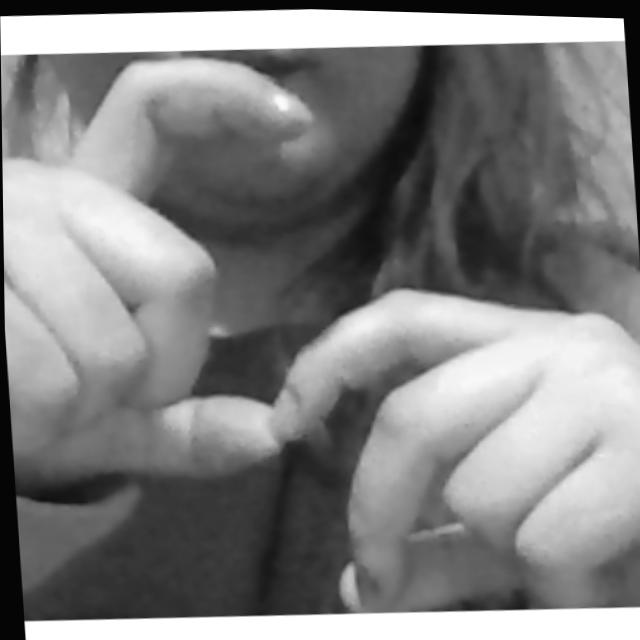S_: (0, 25, 640, 639)
